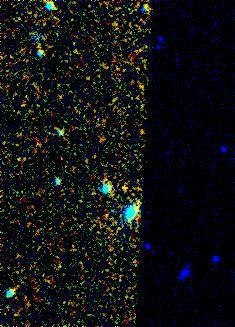star: (113, 170, 143, 200)
